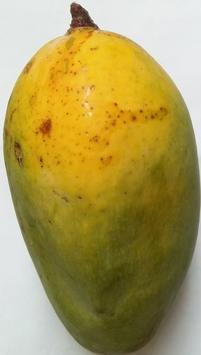PartiallyRipe: (1, 1, 201, 355)
